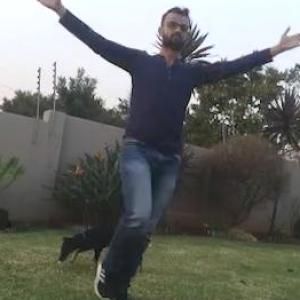takeoff: (40, 0, 299, 297)
